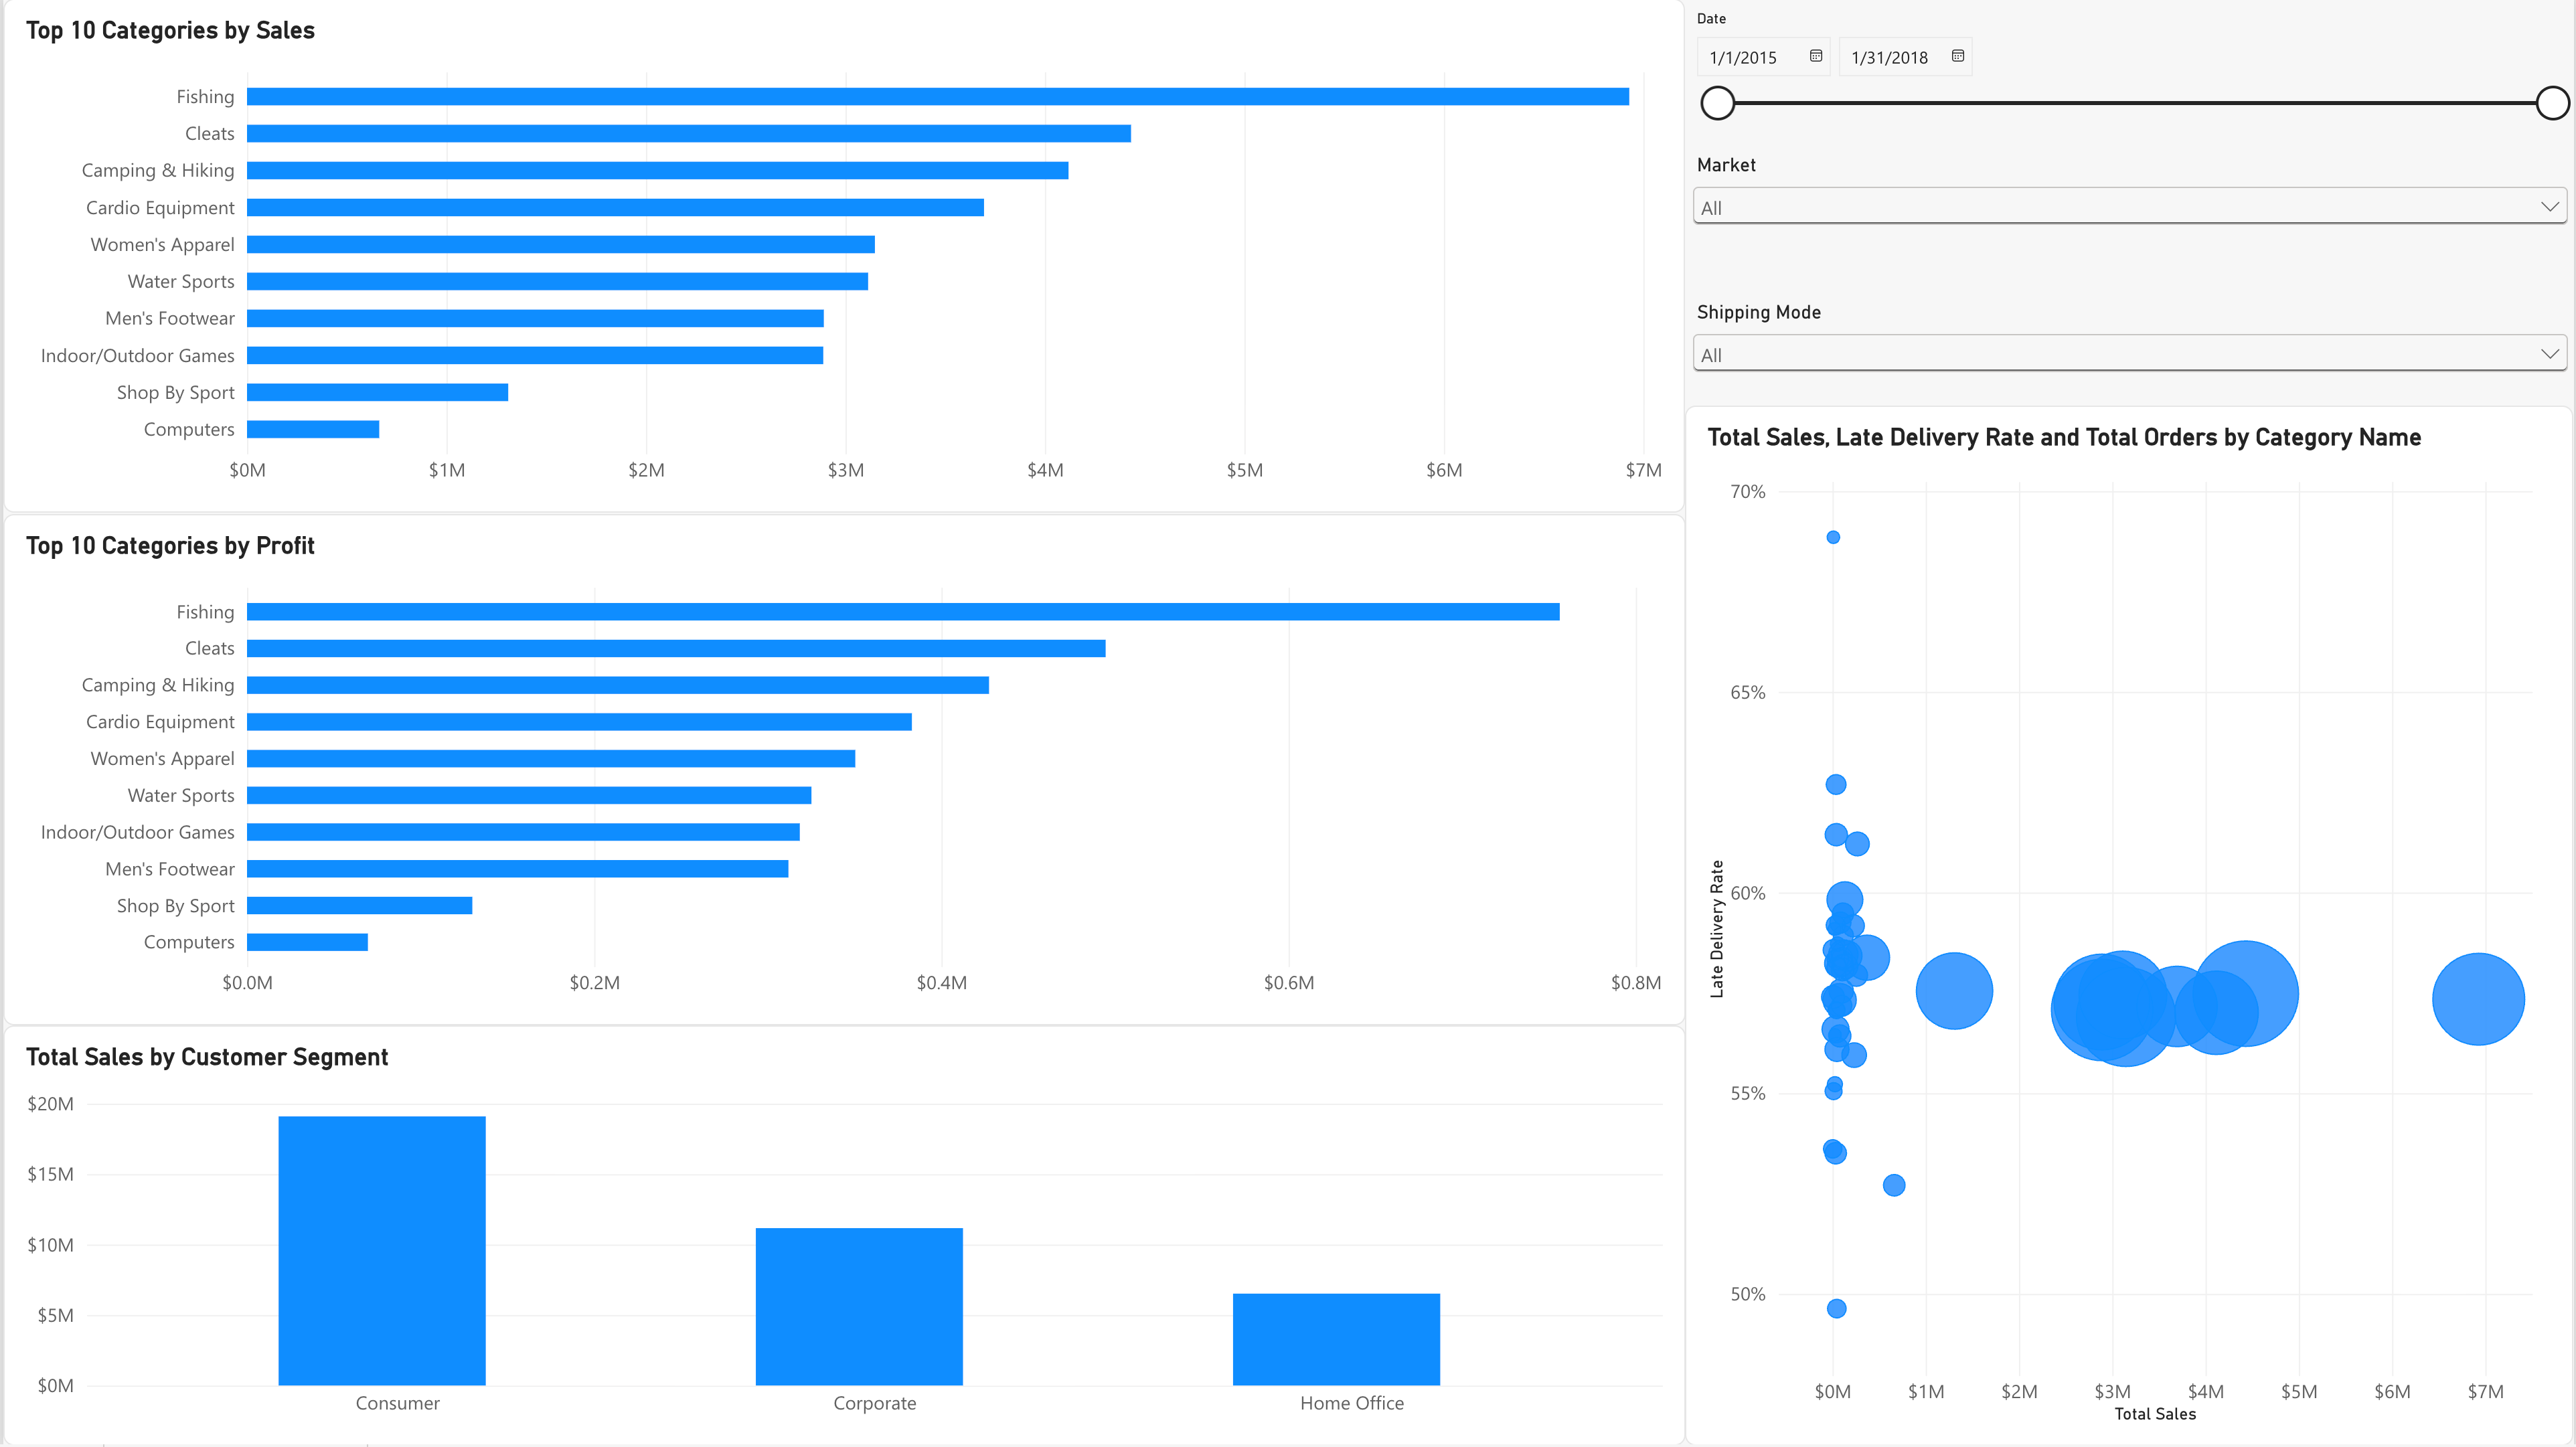

The dashboard page shown, as its layout file describes it:
{"tool":"powerbi","page":{"name":"Product & Customer","canvas":[1920,1080],"ordinal":2},"visuals":[{"type":"slicer","fields":{"Values":["Date Table.Date"]},"box":[1256.7,10,663.3,106.7],"z":0},{"type":"slicer","fields":{"Values":["Orders.Market"]},"box":[1256.7,116.7,663.3,80],"z":1000},{"type":"slicer","fields":{"Values":["Orders.Shipping Mode"]},"box":[1256.7,226.7,663.3,93.3],"z":2000},{"type":"clusteredBarChart","title":"Top 10 Categories by Sales","fields":{"Category":["Orders.Category Name"],"Y":["Orders.Total Sales"]},"box":[0,0,1255.9,384],"z":3000},{"type":"clusteredBarChart","title":"Top 10 Categories by Profit","fields":{"Category":["Orders.Category Name"],"Y":["Orders.Total Profit"]},"box":[0,385.3,1256.3,382.1],"z":4000},{"type":"scatterChart","fields":{"Category":["Orders.Category Name"],"Size":["Orders.Total Orders"],"X":["Orders.Total Sales"],"Y":["Orders.Late Delivery Rate"]},"box":[1256.3,304.4,663.7,777.1],"z":5000},{"type":"clusteredColumnChart","fields":{"Category":["Orders.Customer Segment"],"Y":["Orders.Total Sales"]},"box":[0,767.4,1256.3,314.1],"z":6000}]}

Visuals, with their boxes in screenshot pixels (x1, y1, x2, y2), scaled from the page's 1920x1080 canvas onto the 2576x1447 screenshot:
slicer - Date Table.Date: (left=1686, top=13, right=2575, bottom=157)
slicer - Orders.Market: (left=1686, top=157, right=2575, bottom=264)
slicer - Orders.Shipping Mode: (left=1686, top=304, right=2575, bottom=429)
"Top 10 Categories by Sales" clusteredBarChart: (left=0, top=0, right=1685, bottom=515)
"Top 10 Categories by Profit" clusteredBarChart: (left=0, top=516, right=1686, bottom=1028)
scatterChart - Orders.Category Name x Orders.Total Orders: (left=1686, top=408, right=2575, bottom=1446)
clusteredColumnChart - Orders.Customer Segment x Orders.Total Sales: (left=0, top=1028, right=1686, bottom=1446)
